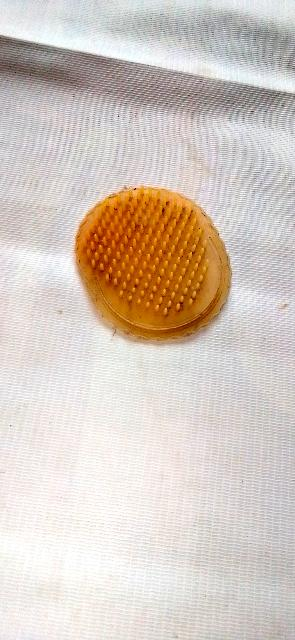hardplastic: (71, 180, 233, 341)
